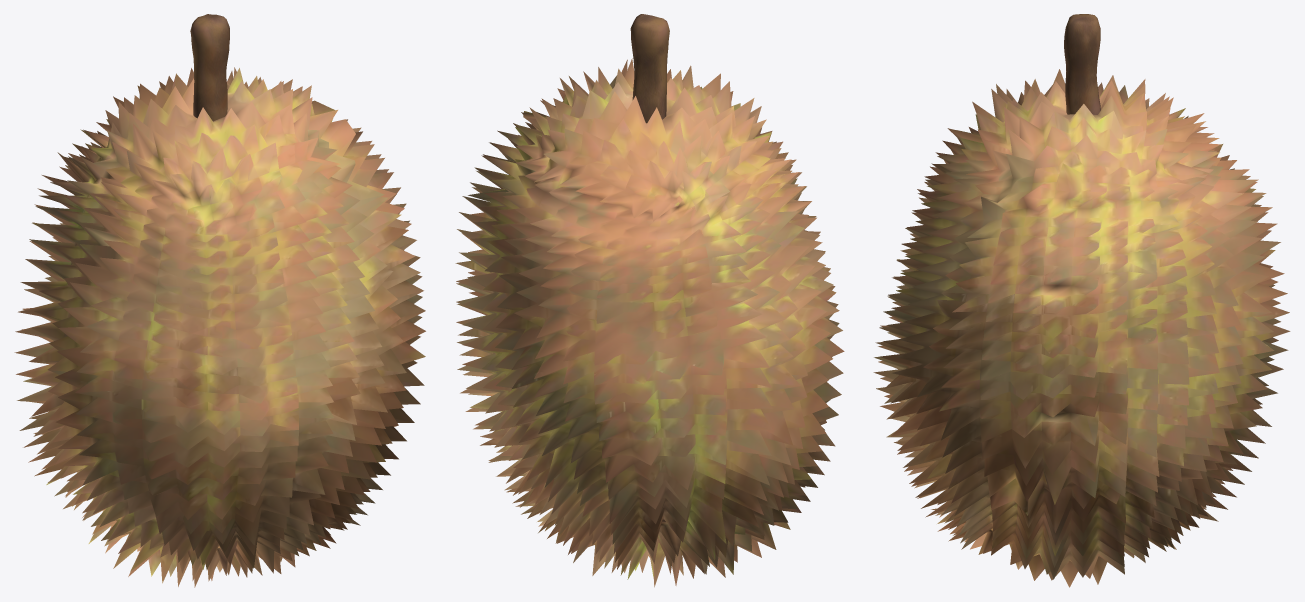
Rendered from durian-2.glb.
3 views of the same model, side by side, from view 1: azimuth 30°, elevation 25°; view 2: azimuth 150°, elevation 25°; view 3: azimuth 270°, elevation 25° (orthographic).
Parts seen in each view (by area): view 1: Durian2_Durian_0, stem_Stem_0; view 2: Durian2_Durian_0, stem_Stem_0; view 3: Durian2_Durian_0, stem_Stem_0.
Part boxes in pixels (bbox=[...]): Durian2_Durian_0: bbox=[14, 67, 425, 587]; stem_Stem_0: bbox=[190, 14, 229, 121]; Durian2_Durian_0: bbox=[455, 58, 844, 587]; stem_Stem_0: bbox=[630, 14, 669, 122]; Durian2_Durian_0: bbox=[873, 69, 1290, 587]; stem_Stem_0: bbox=[1064, 14, 1100, 114].
Bounding box in the file's own units: 4.35 × 6.6 × 4.51.
Materials: 2 (2 with a texture image).
